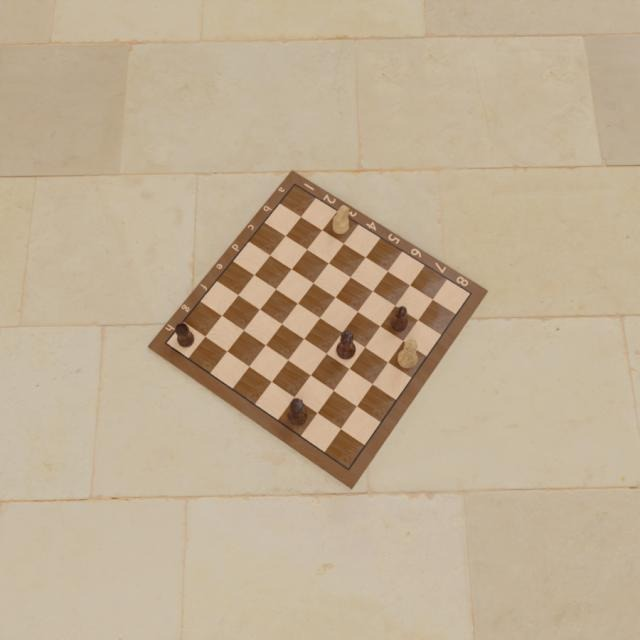black-bishop: (390, 306, 410, 334)
black-king: (336, 329, 356, 360)
black-queen: (287, 396, 308, 427)
black-rook: (175, 322, 197, 349)
white-king: (395, 339, 418, 369)
white-knight: (332, 204, 350, 236)
